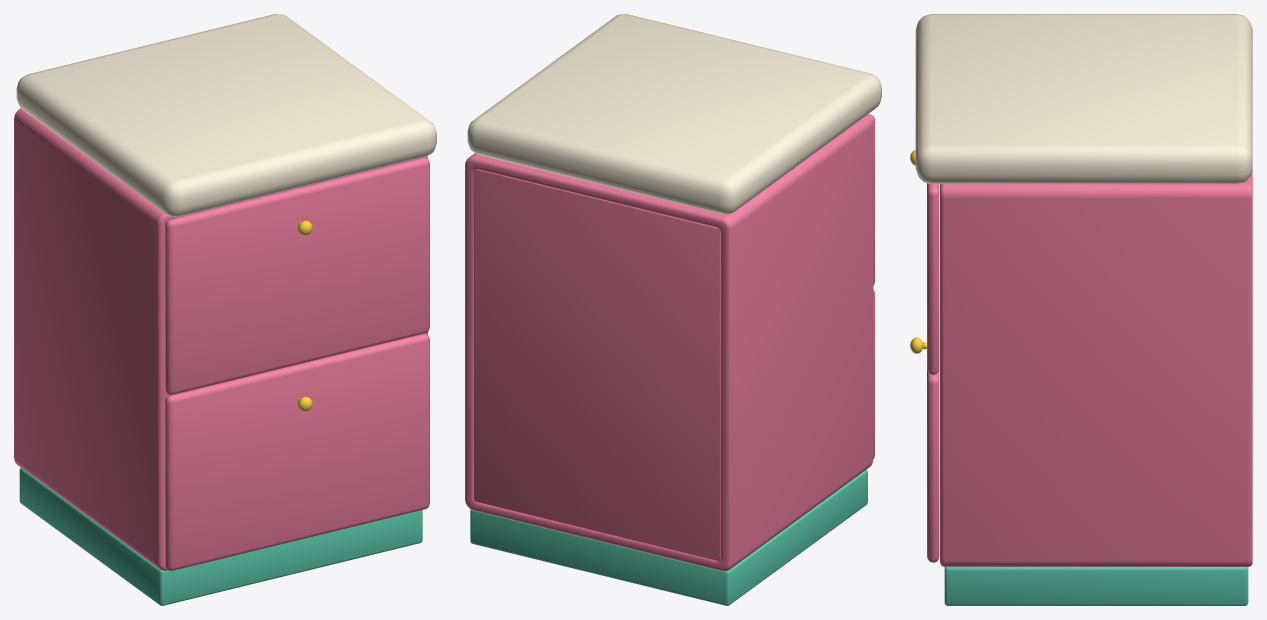
File: gaveteiro_cozinha_2gavetas_verde_rosa.glb
3 views of the same model, side by side, from view 1: azimuth 30°, elevation 25°; view 2: azimuth 150°, elevation 25°; view 3: azimuth 270°, elevation 25° (orthographic). The views are drawn at different scales.
Parts seen in each view (by area): view 1: gaveteiro_cozinha_2gavetas_verde_rosa, gaveta_1, gaveta_2; view 2: gaveteiro_cozinha_2gavetas_verde_rosa; view 3: gaveteiro_cozinha_2gavetas_verde_rosa, gaveta_2, gaveta_1.
Part boxes in pixels (bbox=[...]): gaveteiro_cozinha_2gavetas_verde_rosa: bbox=[14, 14, 436, 605]; gaveta_1: bbox=[165, 157, 429, 394]; gaveta_2: bbox=[165, 333, 429, 570]; gaveteiro_cozinha_2gavetas_verde_rosa: bbox=[465, 14, 881, 605]; gaveteiro_cozinha_2gavetas_verde_rosa: bbox=[915, 14, 1252, 605]; gaveta_2: bbox=[910, 337, 939, 562]; gaveta_1: bbox=[910, 150, 939, 374].
Bounding box in the file's own units: 0.598 × 0.9 × 0.609.
Materials: 1 (1 with a texture image).
